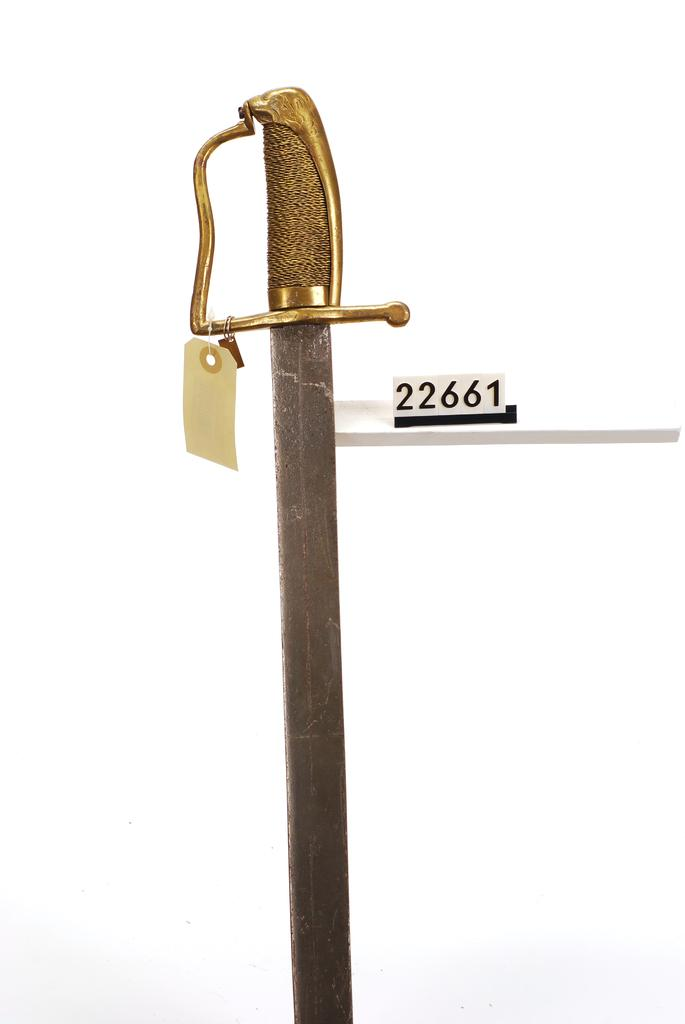Sword: (189, 86, 409, 1023)
